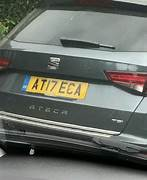number_plate: (25, 72, 87, 101)
